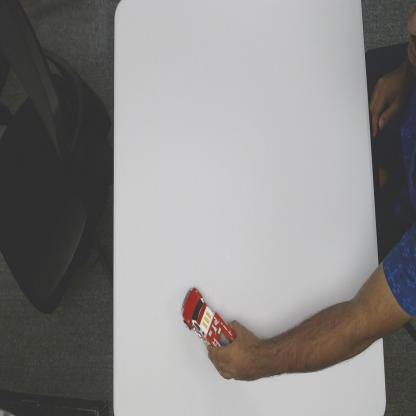Arm: (269, 219, 416, 379)
Firetruck: (181, 282, 237, 354)
Hand: (208, 322, 268, 381)
